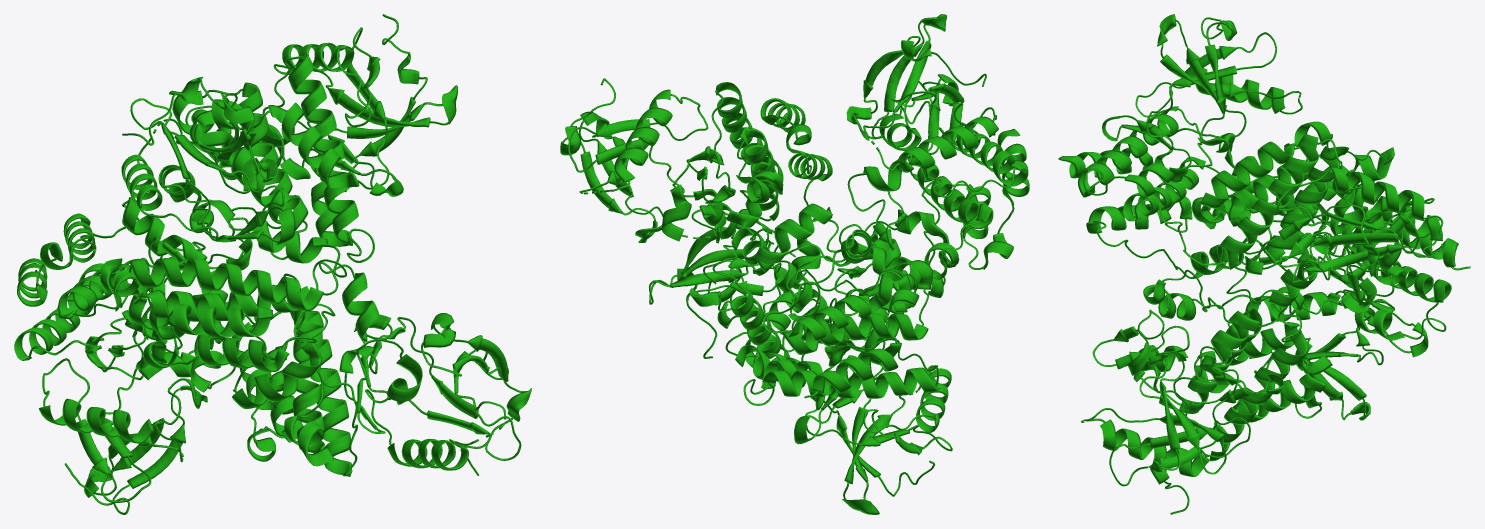
File: ProteinCartoon_GLTF.glb
3 views of the same model, side by side, from view 1: azimuth 30°, elevation 25°; view 2: azimuth 150°, elevation 25°; view 3: azimuth 270°, elevation 25° (orthographic). The views are drawn at different scales.
Visible parts, largest first — view 1: cartoon; view 2: cartoon; view 3: cartoon.
Boxes of the visible parts, <box> form: cartoon: <box>14,14,531,514</box>; cartoon: <box>560,14,1029,514</box>; cartoon: <box>1058,14,1470,514</box>.
Bounding box in the file's own units: 84.95 × 91.38 × 82.31.
